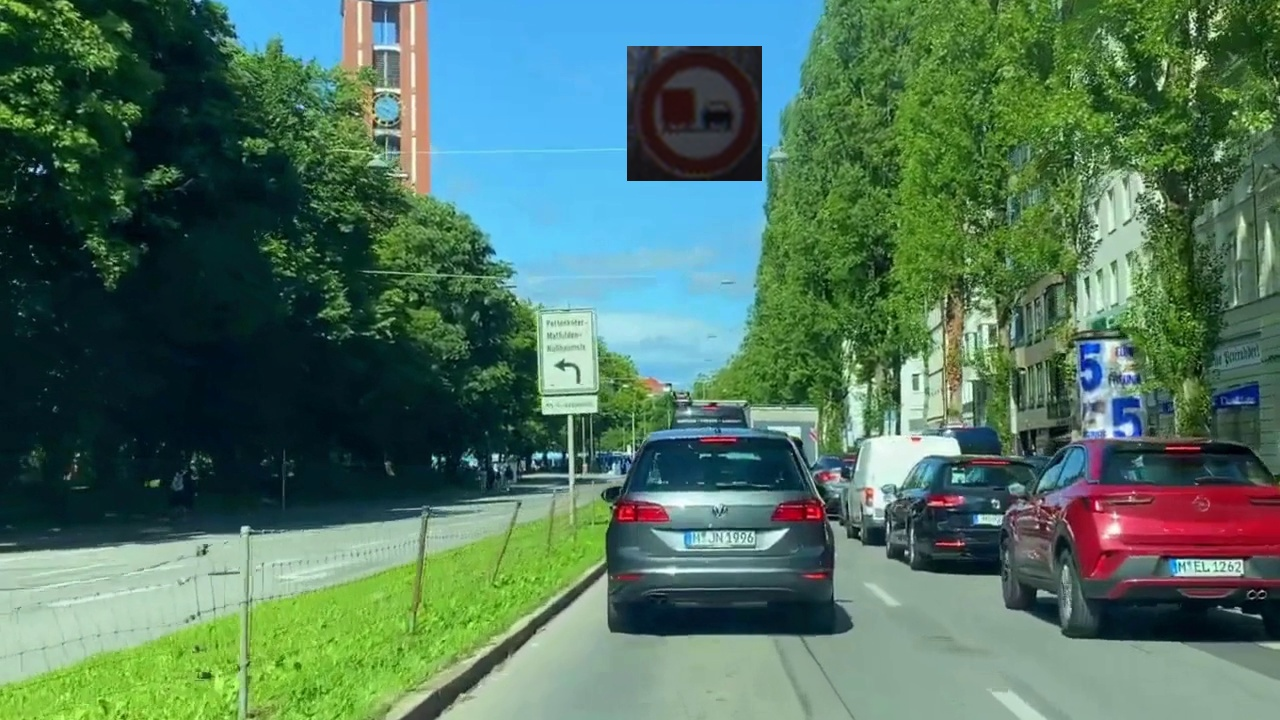No pass >3.5t: (627, 46, 762, 181)
